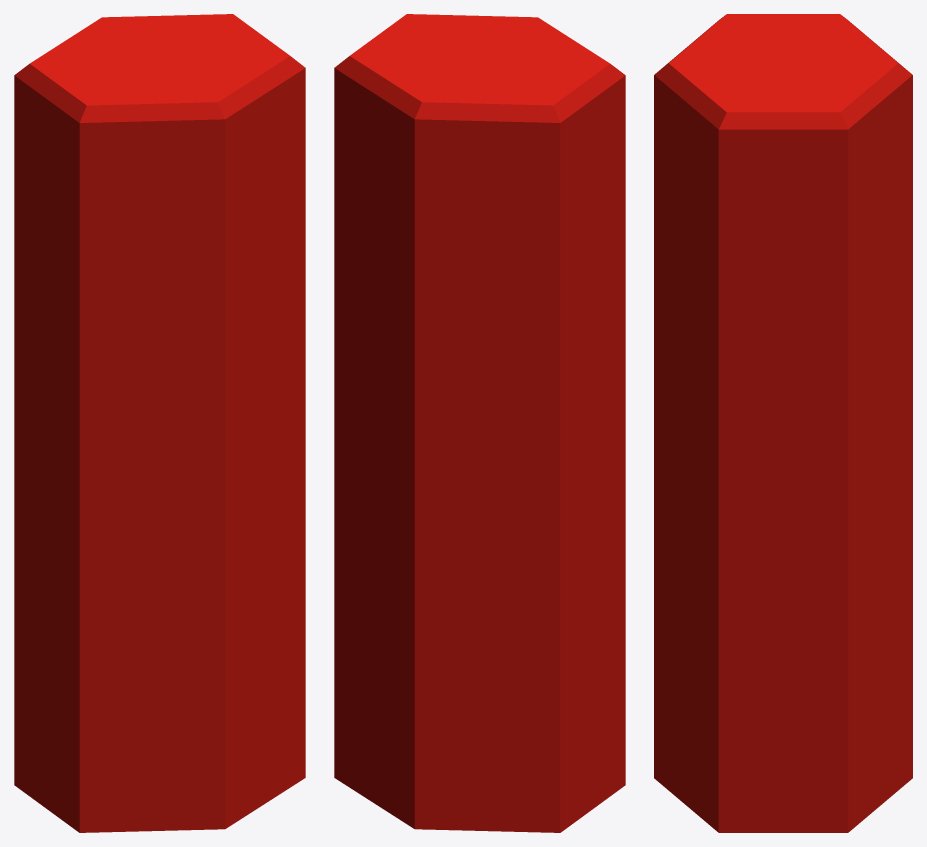
Rendered from Hexagon_R.fbx.
The picture shows the model from 3 angles, left to right: view 1: azimuth 30°, elevation 25°; view 2: azimuth 150°, elevation 25°; view 3: azimuth 270°, elevation 25°; orthographic projection.
Parts seen in each view (by area): view 1: Hexagon_R; view 2: Hexagon_R; view 3: Hexagon_R.
Part boxes in pixels (x1,y1,x2,y2): Hexagon_R: (14, 14, 305, 832); Hexagon_R: (334, 14, 625, 832); Hexagon_R: (654, 14, 912, 832).
Size of the model in its own units: 100 by 305 by 100.
